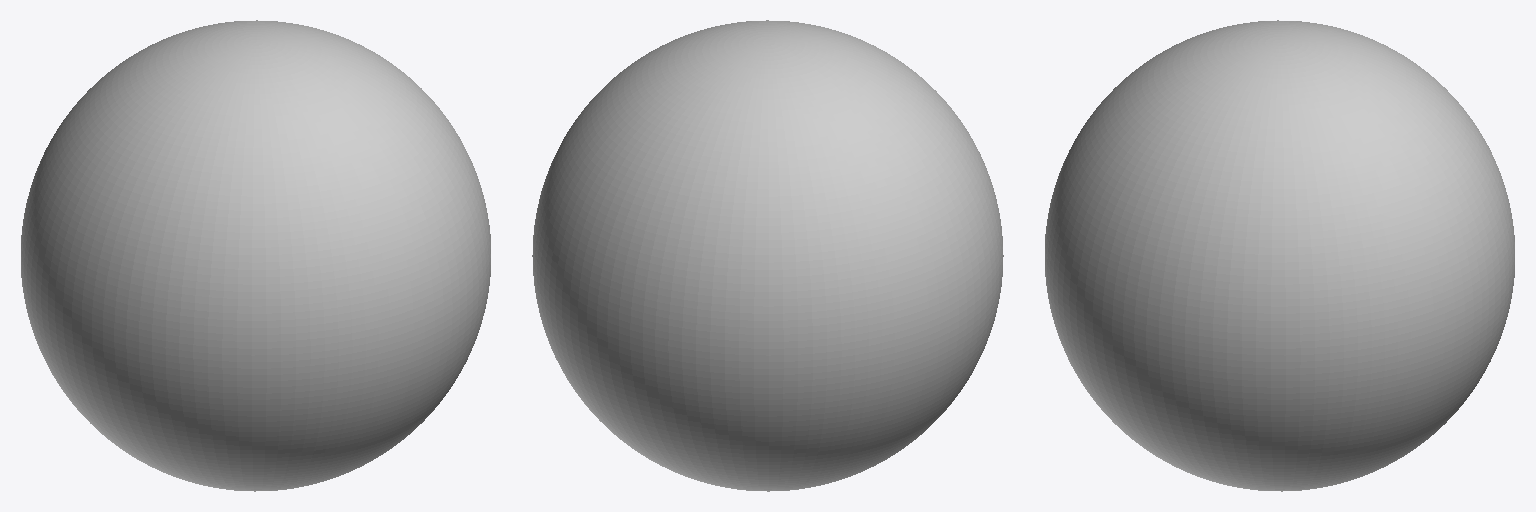
The model's file is Earth.obj.
3 views of the same model, side by side, from view 1: azimuth 30°, elevation 25°; view 2: azimuth 150°, elevation 25°; view 3: azimuth 270°, elevation 25° (orthographic).
Visible parts, largest first — view 1: earth; view 2: earth; view 3: earth.
Part boxes in pixels (x1,y1,x2,y2): earth: (21, 20, 490, 491); earth: (532, 20, 1003, 491); earth: (1045, 20, 1514, 491).
Bounding box in the file's own units: 2.04 × 2.04 × 2.04.